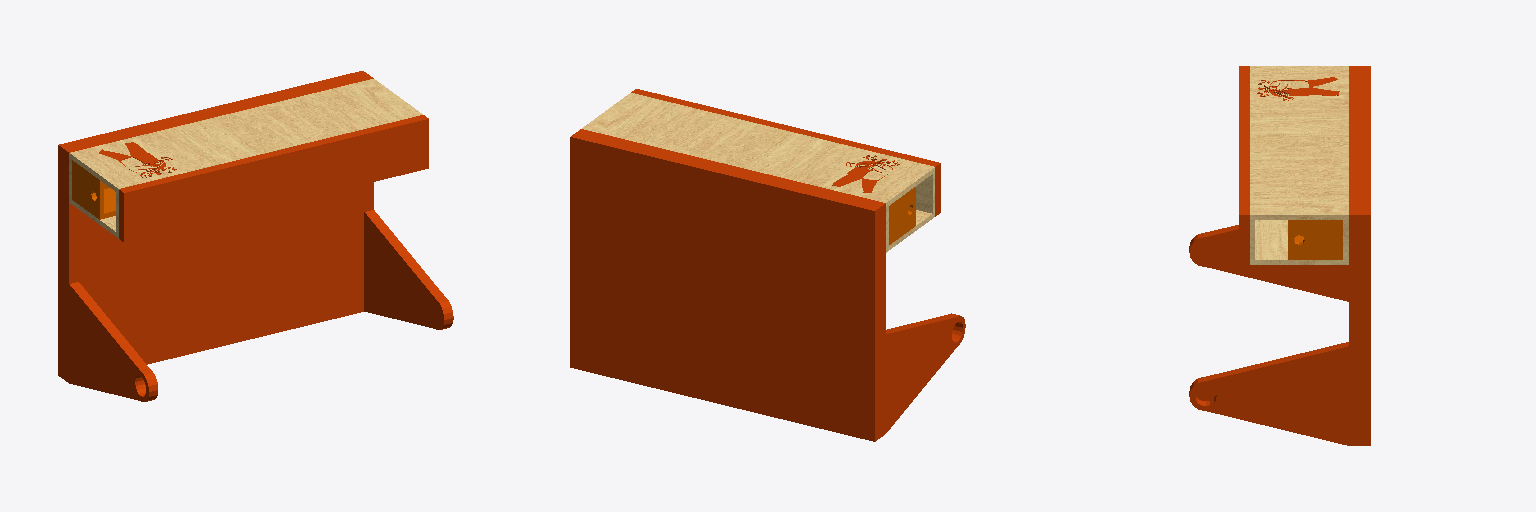
3 renders of one model, left to right at view 1: azimuth 30°, elevation 25°; view 2: azimuth 150°, elevation 25°; view 3: azimuth 270°, elevation 25°, orthographic.
Bounding box in the file's own units: 32 × 23.22 × 16.5.
Materials: 3 (1 with a texture image).